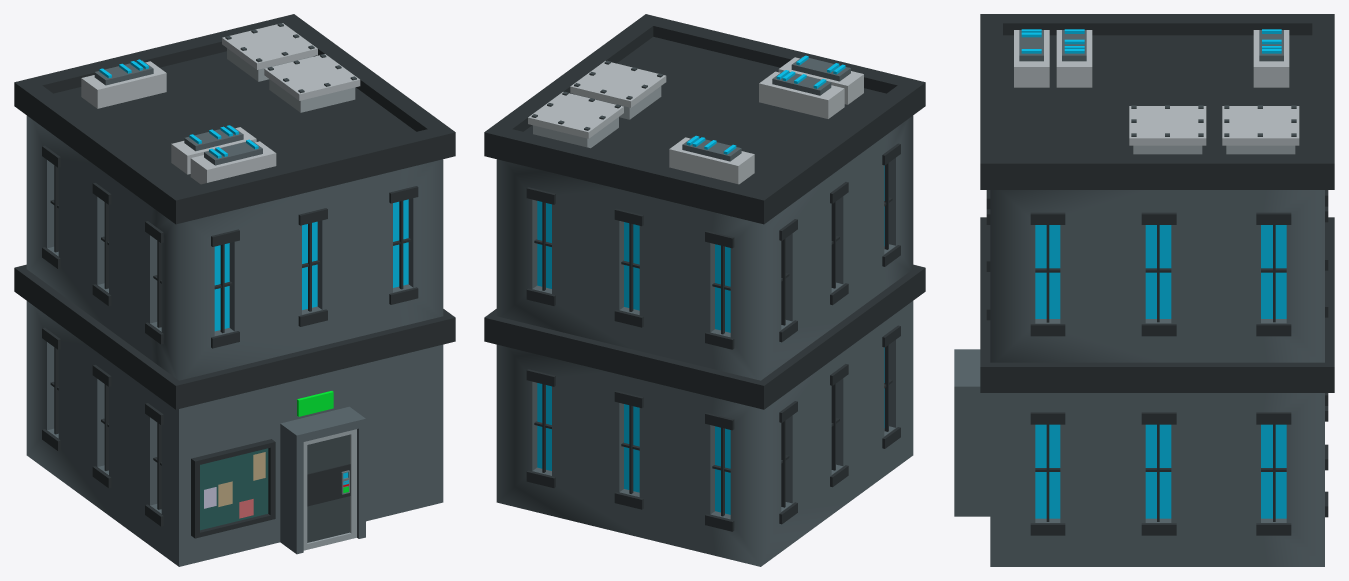
Rendered from Building 02.FBX.
The picture shows the model from 3 angles, left to right: view 1: azimuth 30°, elevation 25°; view 2: azimuth 150°, elevation 25°; view 3: azimuth 270°, elevation 25°; orthographic projection. The views are drawn at different scales.
Parts seen in each view (by area): view 1: Building 02, Building 02 Door; view 2: Building 02; view 3: Building 02.
Boxes of the visible parts, <box> form: Building 02: <box>14,14,455,566</box>; Building 02 Door: <box>303,429,356,550</box>; Building 02: <box>484,14,925,566</box>; Building 02: <box>954,14,1334,566</box>.
Size of the model in its own units: 579 by 766 by 622.
